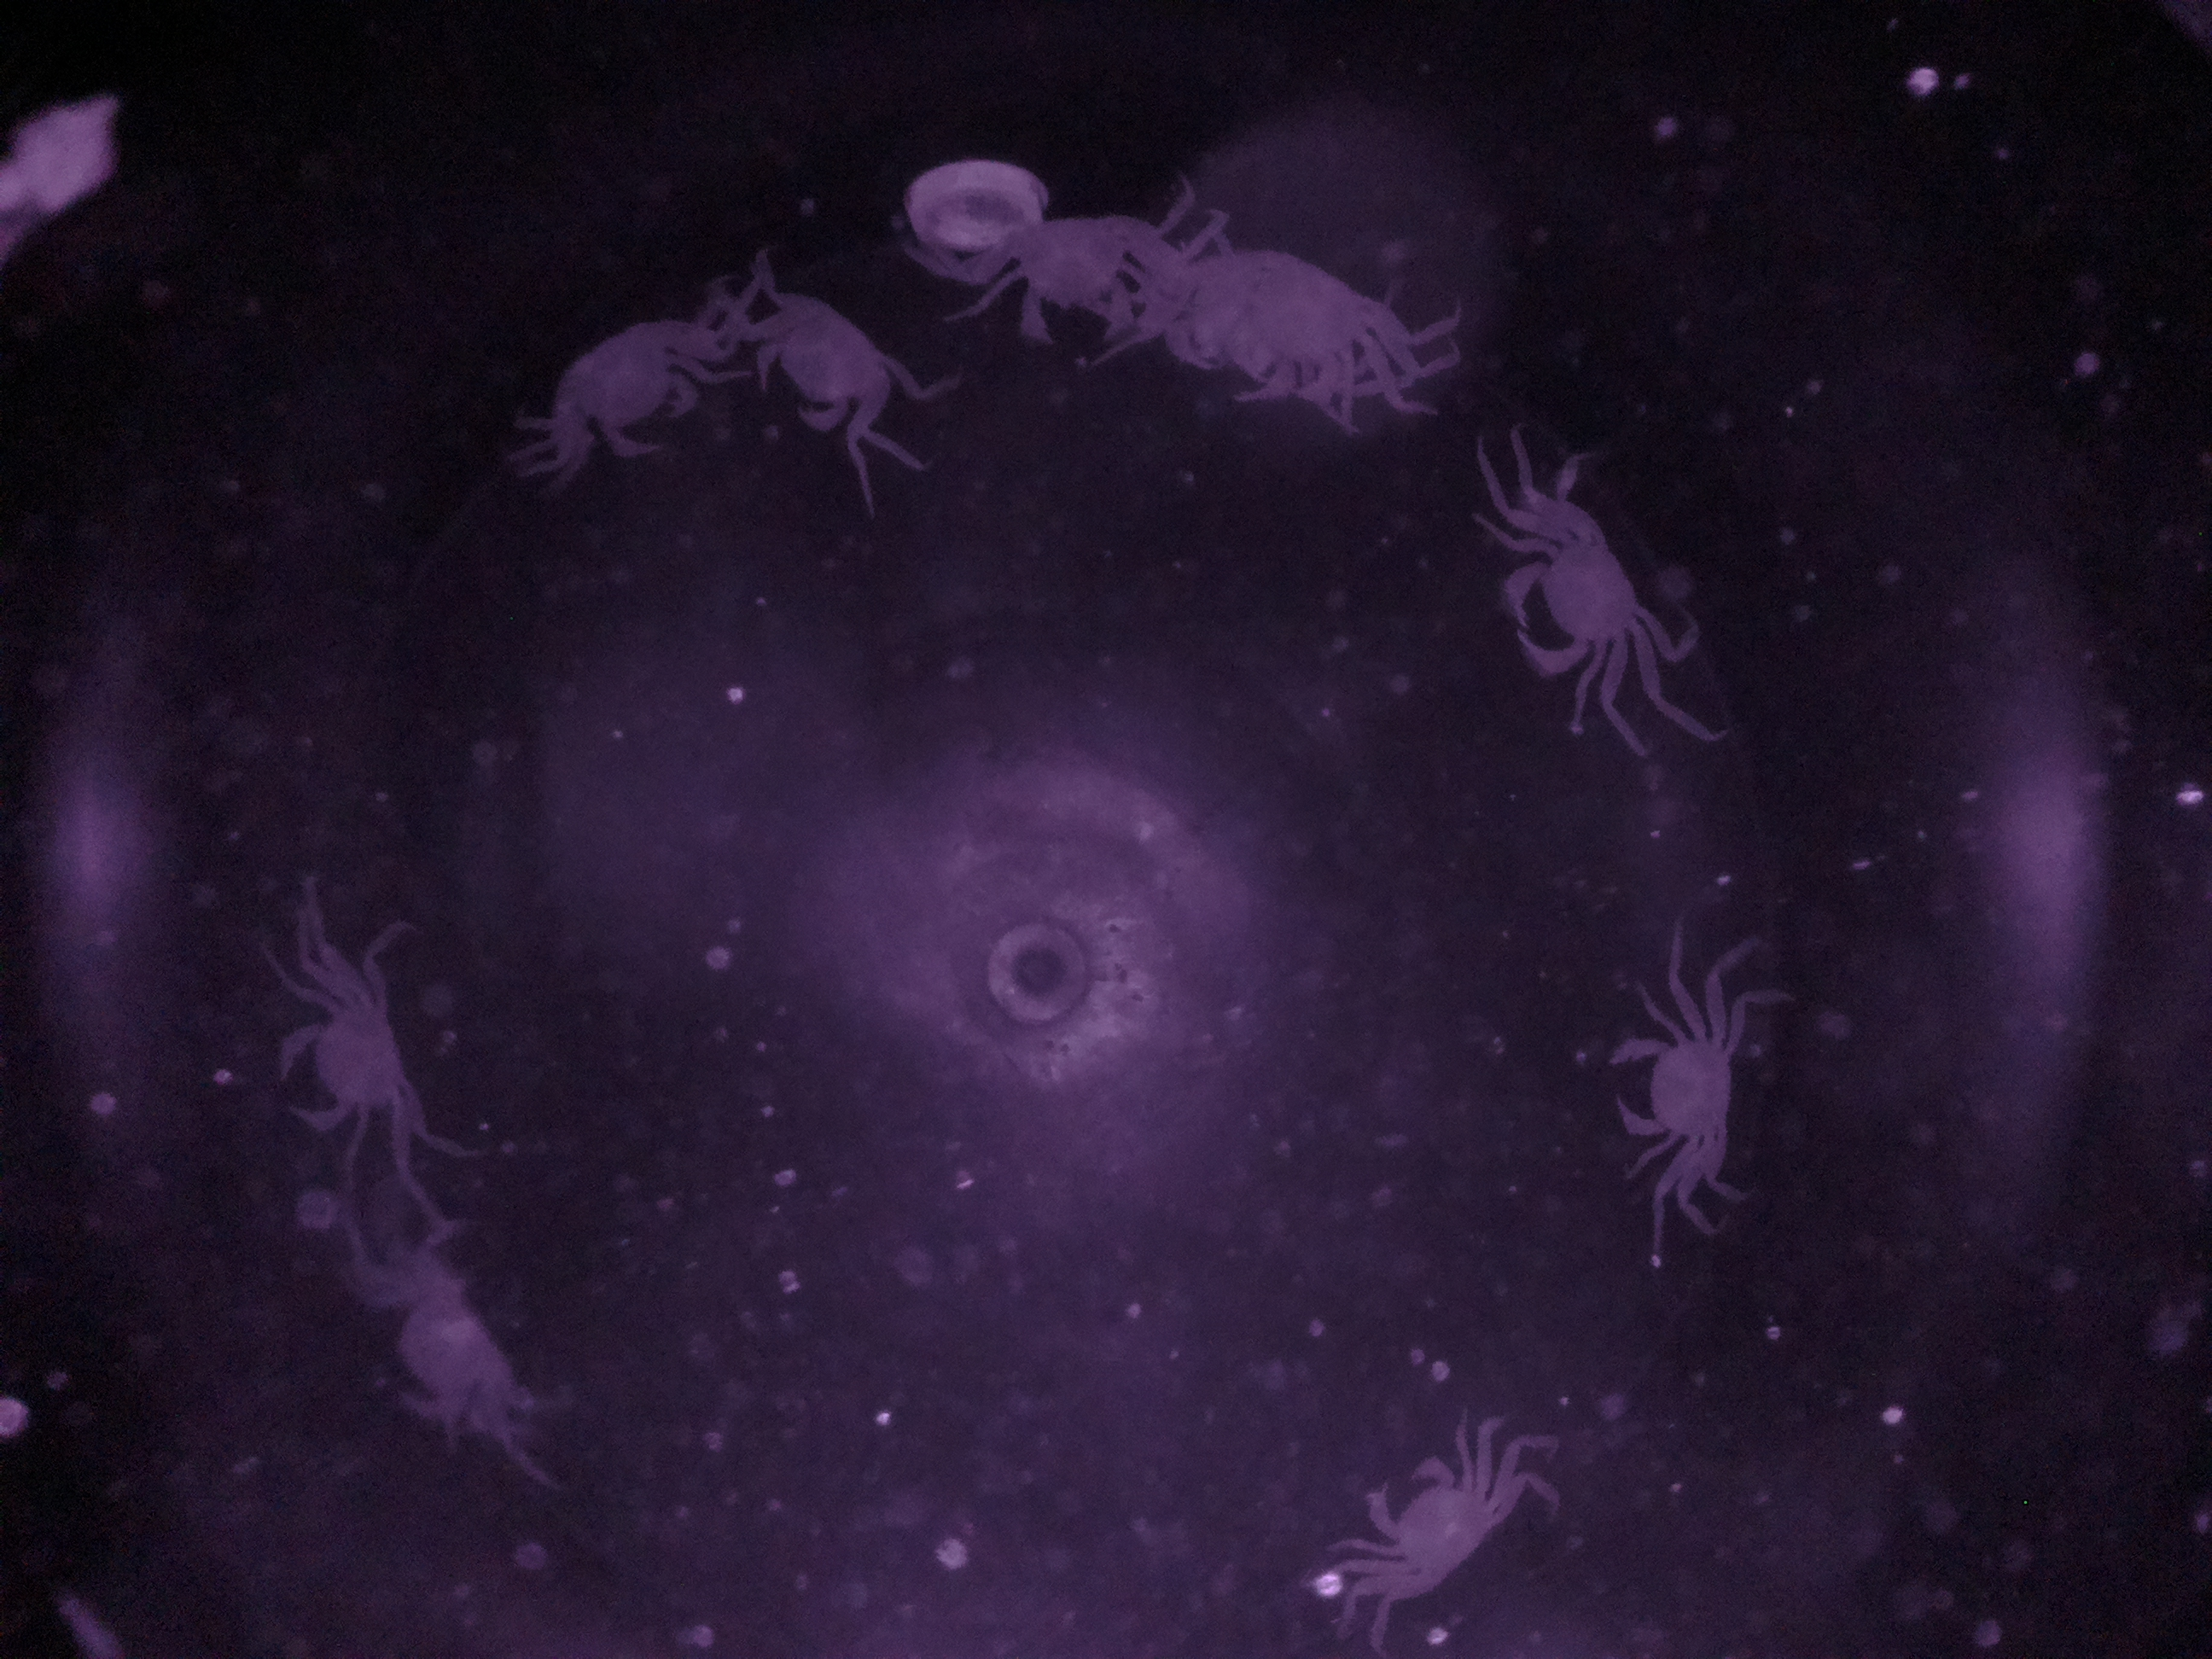Crab: (1486, 493, 1669, 708), (738, 272, 930, 465), (260, 967, 442, 1162), (1585, 1000, 1770, 1176), (1348, 1422, 1522, 1605)
